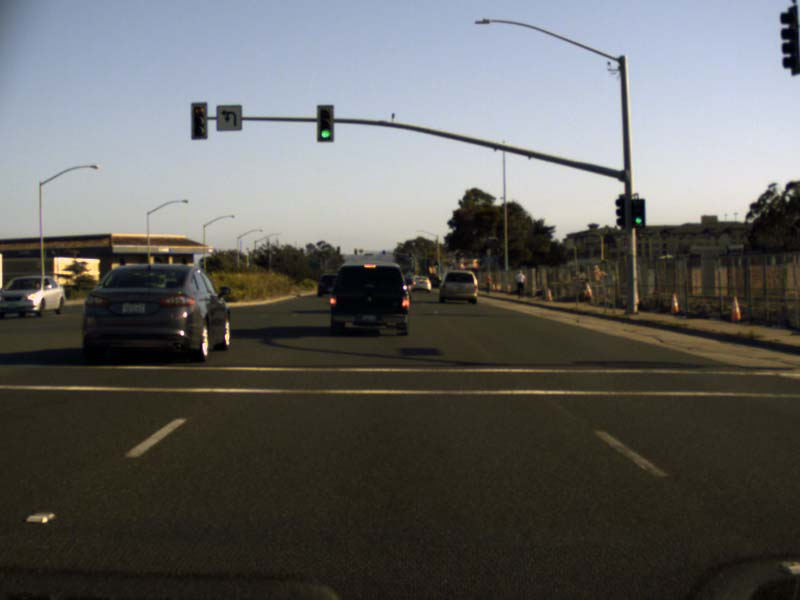Green: (316, 104, 334, 141), (631, 199, 645, 228)
Red: (191, 102, 207, 139), (353, 248, 356, 255)
